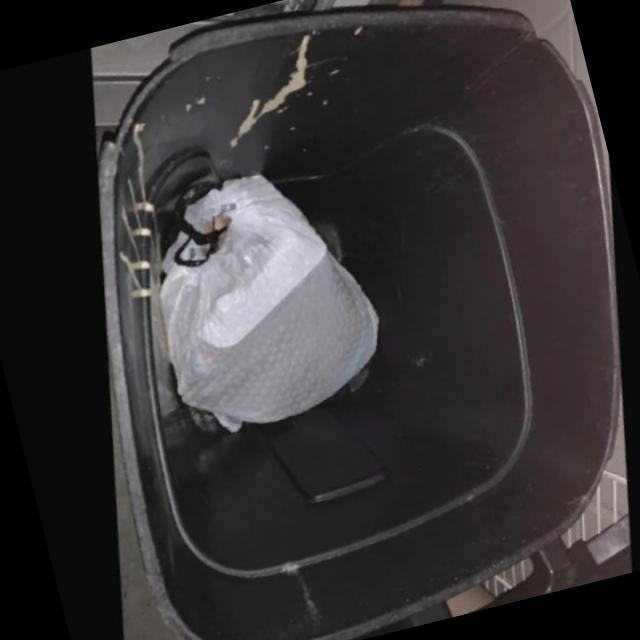tui_ni_long: (155, 179, 375, 430)
